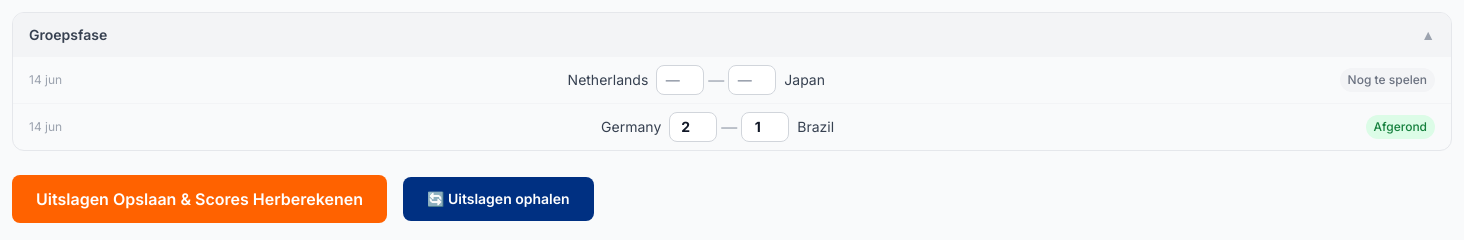
AdminMatchResults › shows fallback when fetch json() throws during error path
The image size is (1464, 240).
Click the button "Uitslagen Opslaan & Scores Herberekenen". click: (199, 199)
box: [12,175,387,223]
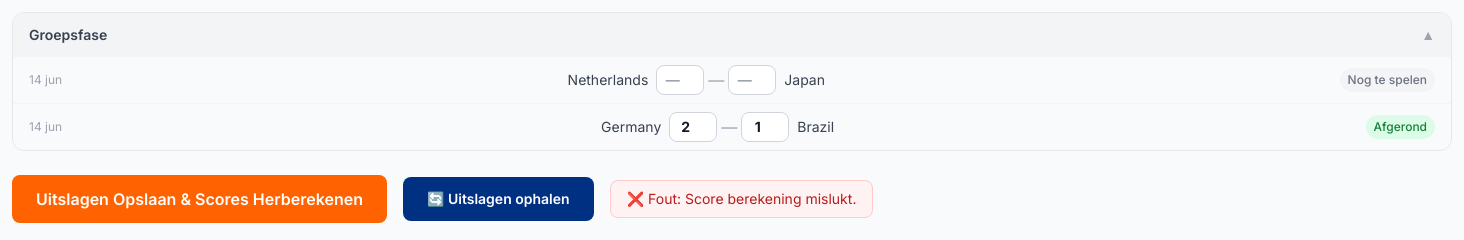
Expected: the text "❌ Fout: Score berekening mislukt." is shown, [610,180,873,218]
